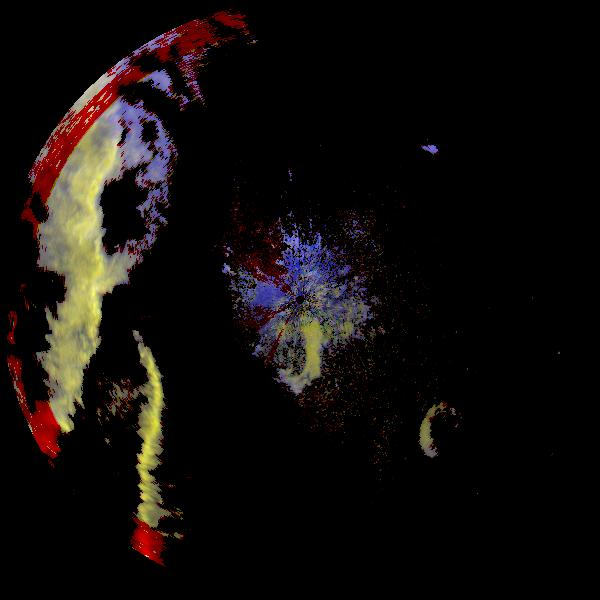roost: (353, 125, 509, 281), (247, 303, 349, 405), (407, 387, 503, 483)
